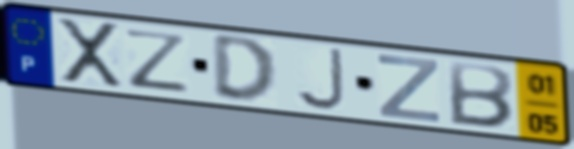B: (446, 59, 517, 132)
D: (209, 35, 281, 107)
J: (292, 45, 347, 112)
X: (54, 15, 127, 90)
Z: (375, 52, 442, 125), (121, 27, 192, 95)
